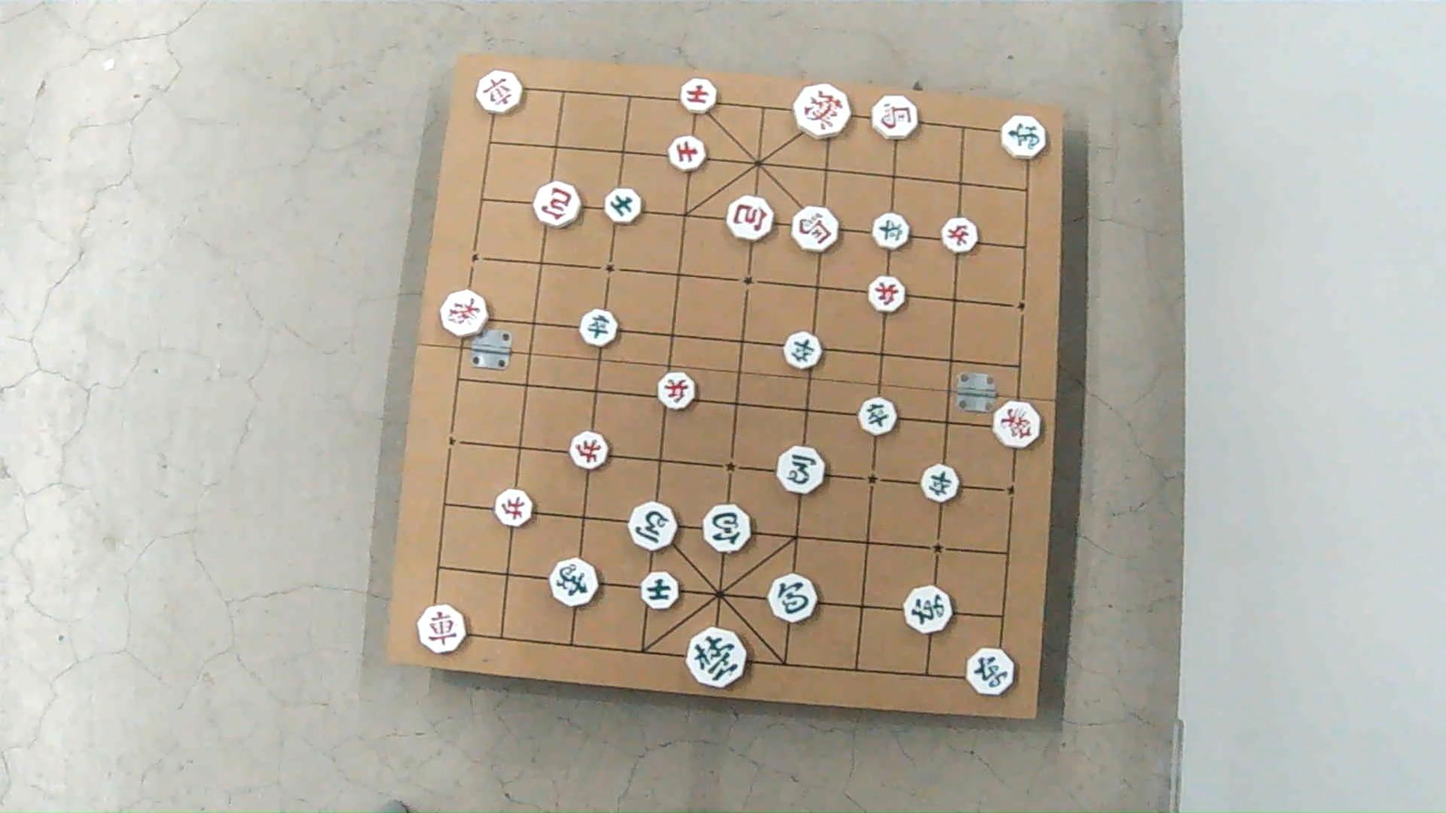cha_green: (905, 586, 953, 632), (966, 647, 1013, 693)
cha_red: (420, 604, 468, 653), (475, 70, 521, 114)
jol_green: (857, 398, 895, 437), (921, 464, 959, 501), (785, 333, 823, 370), (580, 309, 618, 346), (873, 213, 909, 250)
jol_red: (573, 433, 611, 471), (656, 373, 694, 411), (495, 489, 532, 527), (869, 276, 907, 312), (942, 217, 978, 252)
ma_green: (776, 446, 825, 494), (630, 501, 678, 550)
ma_red: (871, 97, 917, 142), (791, 209, 837, 254)
po_green: (768, 574, 816, 623), (703, 504, 751, 552)
po_red: (727, 196, 773, 241), (533, 180, 580, 224)
sa_green: (641, 570, 679, 607), (606, 187, 642, 224)
sa_red: (670, 136, 706, 172), (682, 78, 718, 113)
sang_green: (551, 558, 599, 605), (1002, 117, 1046, 160)
sang_red: (995, 400, 1042, 448), (441, 291, 490, 336)
wang_green: (688, 627, 746, 687)
wang_red: (794, 84, 849, 138)
